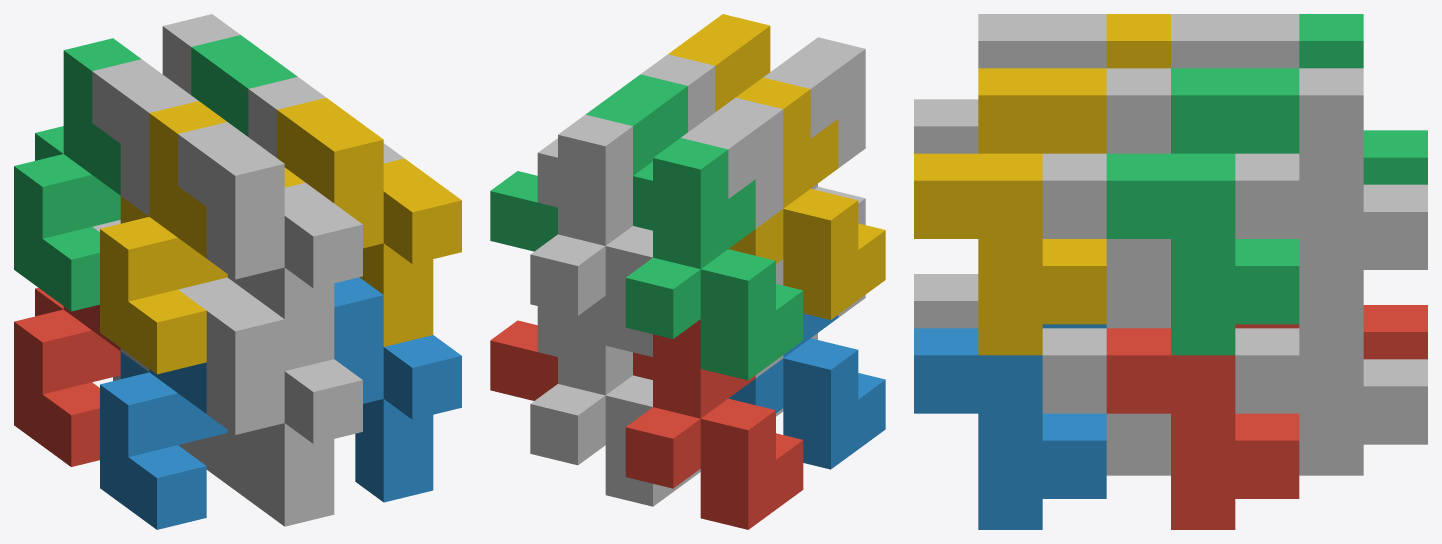
The model's file is tiling.obj.
The picture shows the model from 3 angles, left to right: view 1: azimuth 30°, elevation 25°; view 2: azimuth 150°, elevation 25°; view 3: azimuth 270°, elevation 25°; orthographic projection. The views are drawn at different scales.
Visible parts, largest first — view 1: copy_2_domain_4, copy_2_domain_2, copy_2_domain_8, copy_1_domain_4, copy_1_domain_3, copy_2_domain_6, copy_1_domain_2, copy_1_domain_1, copy_2_domain_3, copy_2_domain_7, copy_1_domain_8, copy_1_domain_7 (+1 smaller); view 2: copy_1_domain_3, copy_1_domain_1, copy_1_domain_7, copy_1_domain_4, copy_1_domain_5, copy_1_domain_2, copy_2_domain_7, copy_2_domain_3, copy_2_domain_4, copy_2_domain_8, copy_2_domain_5, copy_1_domain_8 (+1 smaller); view 3: copy_2_domain_7, copy_2_domain_8, copy_1_domain_5, copy_1_domain_7, copy_2_domain_5, copy_2_domain_6, copy_1_domain_6, copy_1_domain_8, copy_2_domain_4, copy_1_domain_3, copy_2_domain_3, copy_1_domain_1 (+2 smaller).
Boxes of the visible parts, left/top/right/bottom form: copy_2_domain_4: left=178, top=122, right=362, bottom=370; copy_2_domain_2: left=178, top=277, right=362, bottom=526; copy_2_domain_8: left=277, top=98, right=461, bottom=346; copy_1_domain_4: left=100, top=101, right=304, bottom=374; copy_1_domain_3: left=14, top=38, right=141, bottom=311; copy_2_domain_6: left=334, top=277, right=461, bottom=502; copy_1_domain_2: left=100, top=351, right=227, bottom=529; copy_1_domain_1: left=14, top=287, right=120, bottom=466; copy_2_domain_3: left=92, top=59, right=198, bottom=216; copy_2_domain_7: left=191, top=35, right=297, bottom=136; copy_1_domain_8: left=248, top=77, right=404, bottom=163; copy_1_domain_7: left=162, top=14, right=240, bottom=94; copy_1_domain_3: left=625, top=138, right=803, bottom=380; copy_1_domain_1: left=625, top=319, right=803, bottom=529; copy_1_domain_7: left=530, top=114, right=652, bottom=356; copy_1_domain_4: left=728, top=77, right=885, bottom=319; copy_1_domain_5: left=530, top=296, right=700, bottom=506; copy_1_domain_2: left=728, top=313, right=885, bottom=469; copy_2_domain_7: left=490, top=74, right=687, bottom=251; copy_2_domain_3: left=681, top=97, right=783, bottom=228; copy_2_domain_4: left=763, top=37, right=865, bottom=189; copy_2_domain_8: left=668, top=14, right=770, bottom=111; copy_2_domain_5: left=490, top=320, right=557, bottom=400; copy_1_domain_8: left=641, top=54, right=715, bottom=131; copy_2_domain_7: left=1106, top=68, right=1299, bottom=355; copy_2_domain_8: left=914, top=68, right=1106, bottom=355; copy_1_domain_5: left=1235, top=270, right=1427, bottom=475; copy_1_domain_7: left=1235, top=68, right=1427, bottom=269; copy_2_domain_5: left=1106, top=324, right=1299, bottom=529; copy_2_domain_6: left=914, top=324, right=1106, bottom=529; copy_1_domain_6: left=1042, top=270, right=1170, bottom=475; copy_1_domain_8: left=1042, top=68, right=1170, bottom=269; copy_2_domain_4: left=914, top=14, right=1106, bottom=153; copy_1_domain_3: left=1299, top=14, right=1427, bottom=184; copy_2_domain_3: left=1171, top=14, right=1299, bottom=68; copy_1_domain_1: left=1363, top=305, right=1427, bottom=359.
Bounding box in the file's own units: 6 × 7 × 8.
